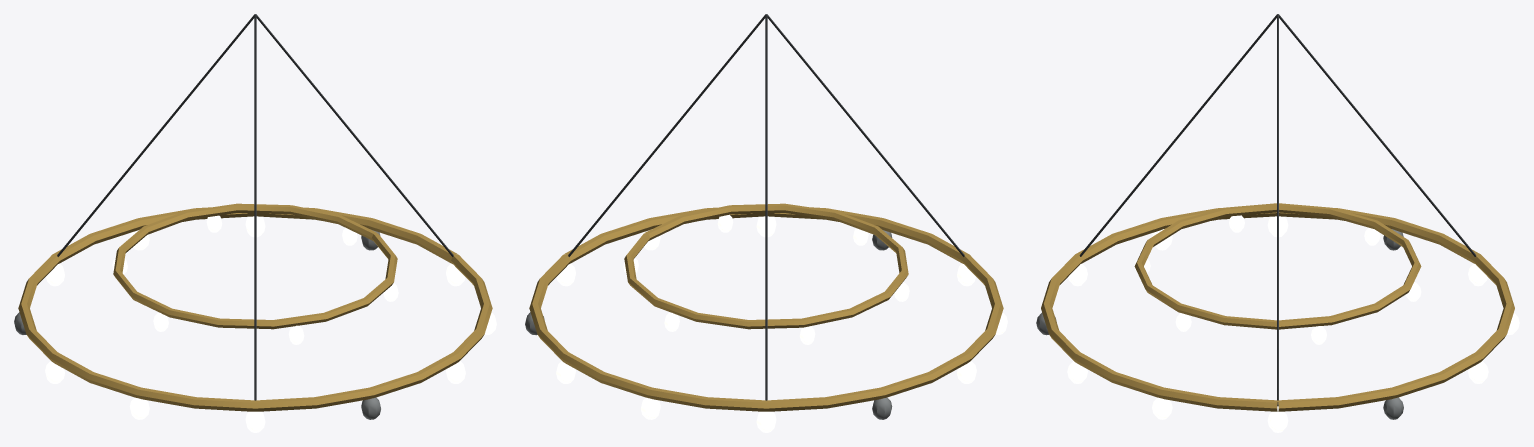
The model's file is atrium_chandelier.glb.
3 views of the same model, side by side, from view 1: azimuth 30°, elevation 25°; view 2: azimuth 150°, elevation 25°; view 3: azimuth 270°, elevation 25° (orthographic).
Visible parts, largest first — view 1: AtriumChandelier; view 2: AtriumChandelier; view 3: AtriumChandelier.
Part boxes in pixels (x1,y1,x2,y2): AtriumChandelier: [14, 14, 496, 432]; AtriumChandelier: [525, 14, 1007, 432]; AtriumChandelier: [1036, 14, 1519, 432].
Size of the model in its own units: 4.18 by 3.06 by 4.18.
